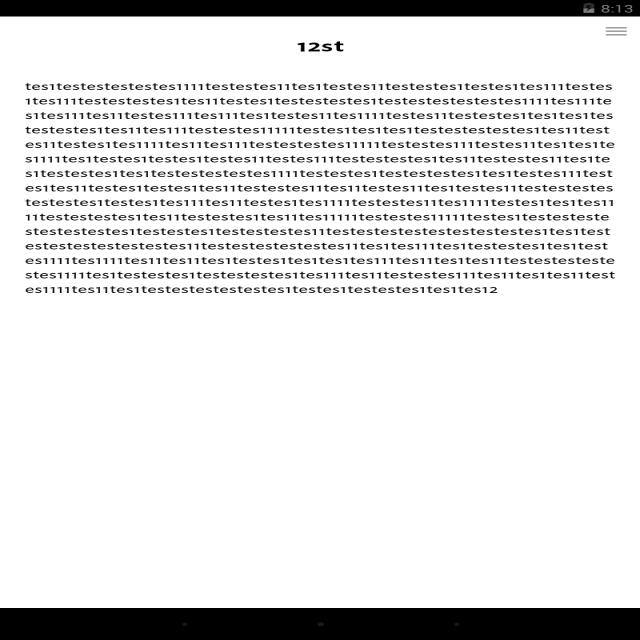ImageButton: (597, 20, 637, 40)
TextView: (21, 77, 626, 301), (289, 32, 352, 54)
